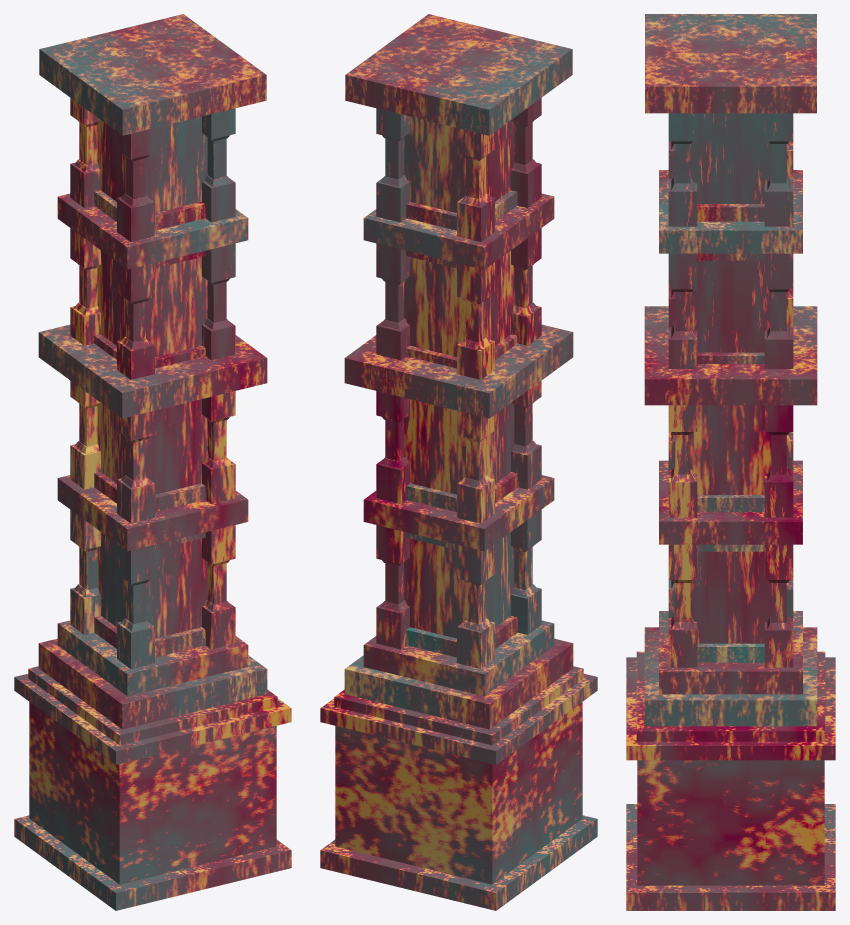
The model's file is SMALL PILLAR ASSET.fbx.
3 renders of one model, left to right at view 1: azimuth 30°, elevation 25°; view 2: azimuth 150°, elevation 25°; view 3: azimuth 270°, elevation 25°, orthographic. The views are drawn at different scales.
Visible parts, largest first — view 1: tiny pillar 1.003, cube 2.003, cube 7.003, cube 5.003, cube 9.003, support cubes.002, cube 3.003; view 2: tiny pillar 1.003, cube 2.003, cube 7.003, cube 5.003, cube 9.003, support cubes.002, cube 3.003; view 3: cube 2.003, cube 5.003, tiny pillar 1.003, cube 7.003, support cubes.002, cube 9.003, cube 3.003.
Part boxes in pixels (x1,y1,x2,y2): tiny pillar 1.003: (70,98,235,668); cube 2.003: (38,14,267,729); cube 7.003: (29,702,276,884); cube 5.003: (97,116,207,638); cube 9.003: (57,193,248,696); support cubes.002: (14,666,291,910); cube 3.003: (94,190,205,657); tiny pillar 1.003: (376,98,541,668); cube 2.003: (344,14,573,729); cube 7.003: (335,702,582,884); cube 5.003: (404,116,514,638); cube 9.003: (363,193,554,696); support cubes.002: (320,666,597,910); cube 3.003: (406,190,517,657); cube 2.003: (644,14,817,726); cube 5.003: (690,113,771,643); tiny pillar 1.003: (668,113,793,667); cube 7.003: (637,760,824,885); support cubes.002: (626,651,835,910); cube 9.003: (659,170,802,694); cube 3.003: (697,204,764,662).
Bounding box in the file's own units: 524 × 2251 × 524.
